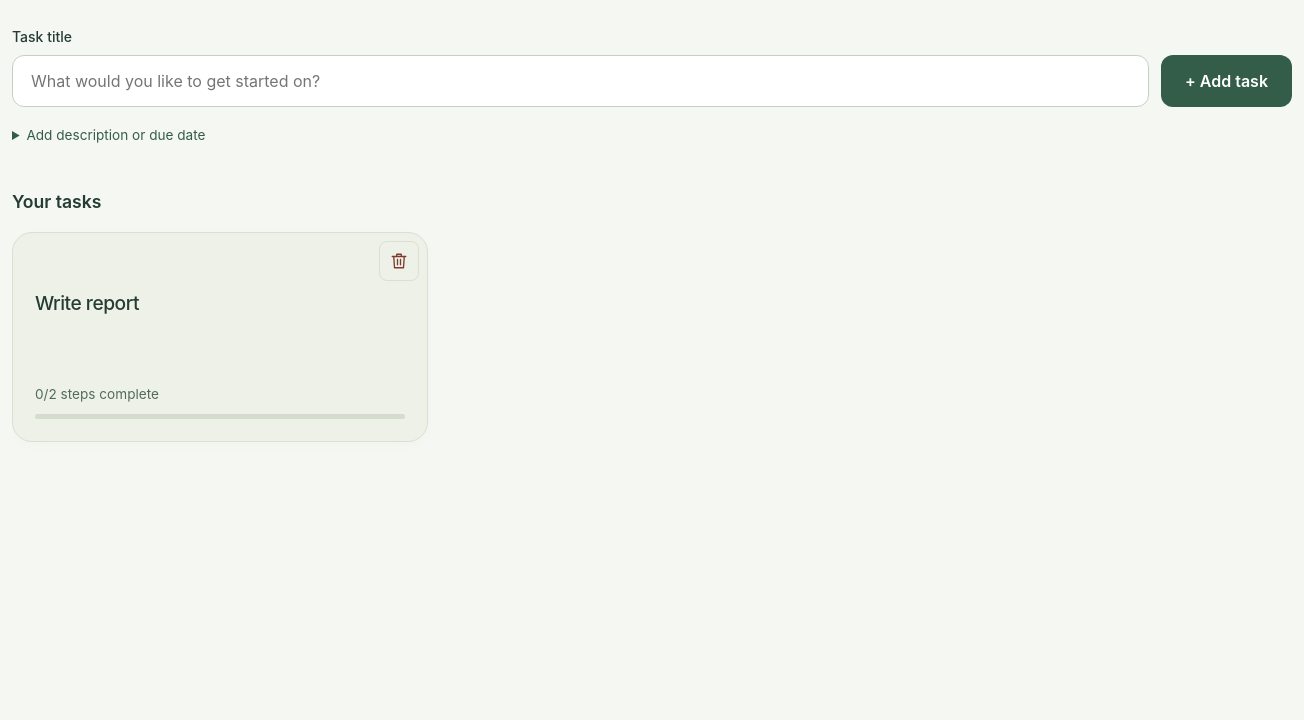
failed dashboard deletion preserves the task, reports an accessible error, and allows retry
Click the button named "Delete Write report" at (399, 261), box left=379, top=241, right=419, bottom=281
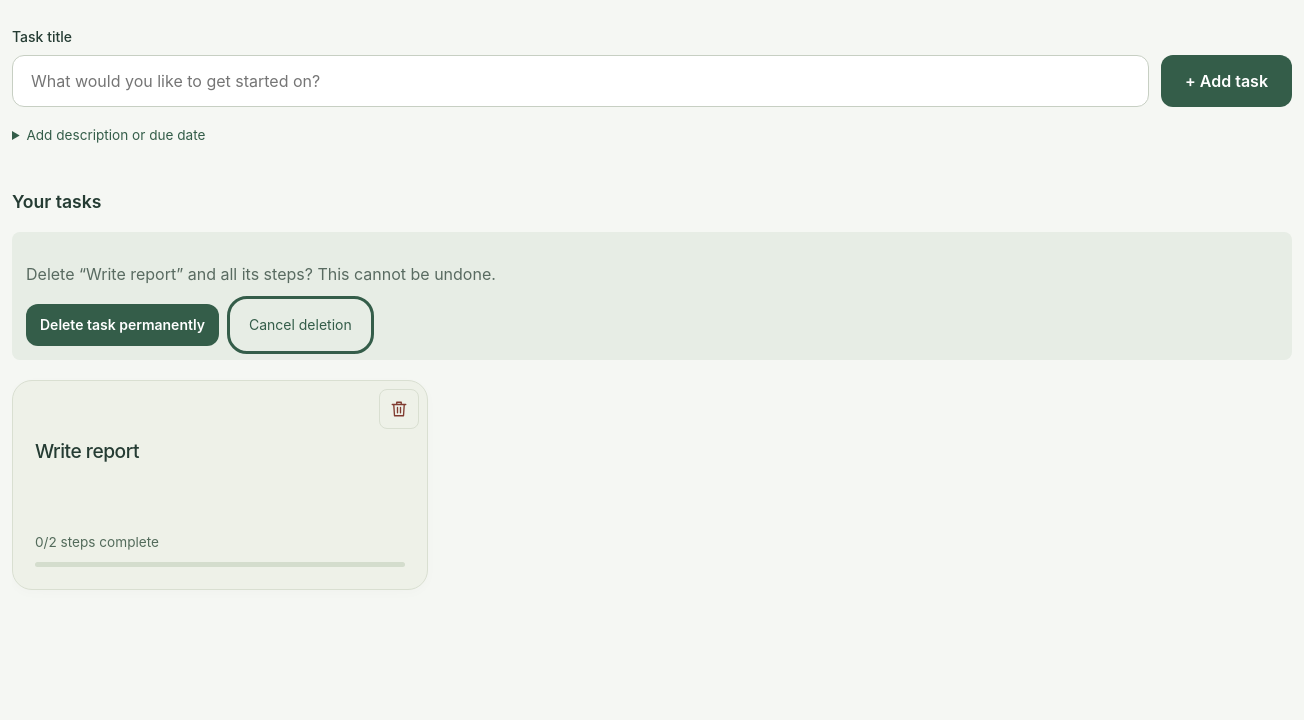
Click the button "Delete task permanently" at (122, 325), box left=26, top=304, right=219, bottom=346
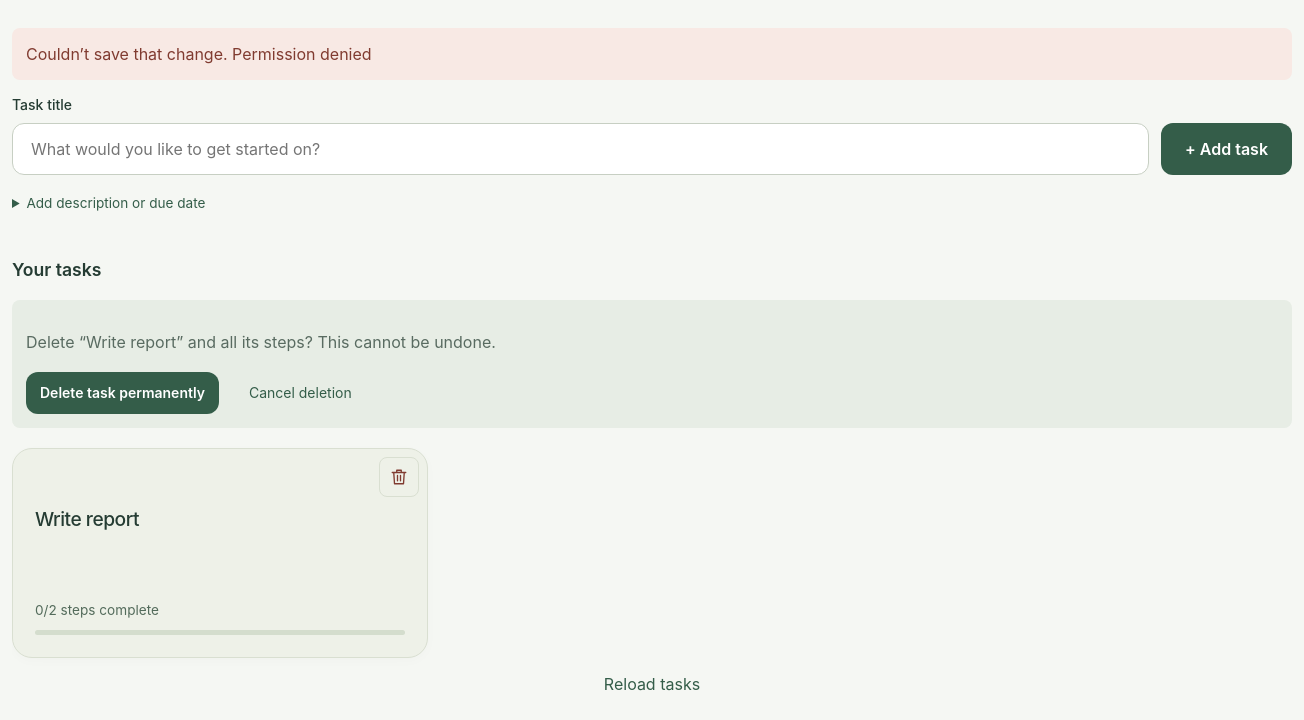
expect the button "Write report 0/2 steps complete" is shown: met, box left=13, top=449, right=427, bottom=657
expect the element named "Delete task confirmation" is shown: met, box left=12, top=300, right=1292, bottom=428
expect the message shows "Permission denied": met, box left=26, top=44, right=372, bottom=64
Click the button "Delete task permanently" at (122, 393), box left=26, top=372, right=219, bottom=414
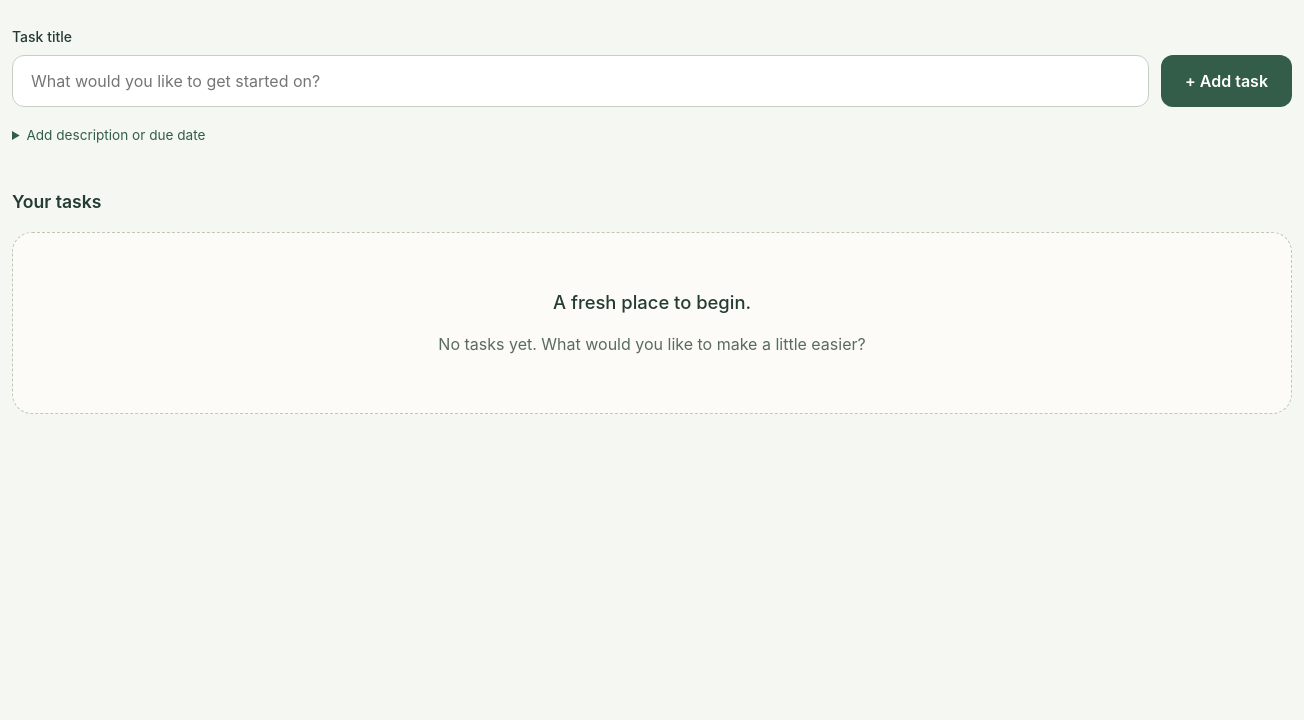
expect the text "No tasks yet. What would you like to make a little easier?" is shown: met, box left=438, top=334, right=866, bottom=354
expect the message "Couldn’t save that change. Permission denied" is gone: met
